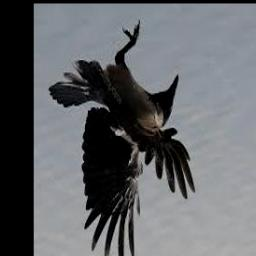Crow: (48, 19, 194, 256)
